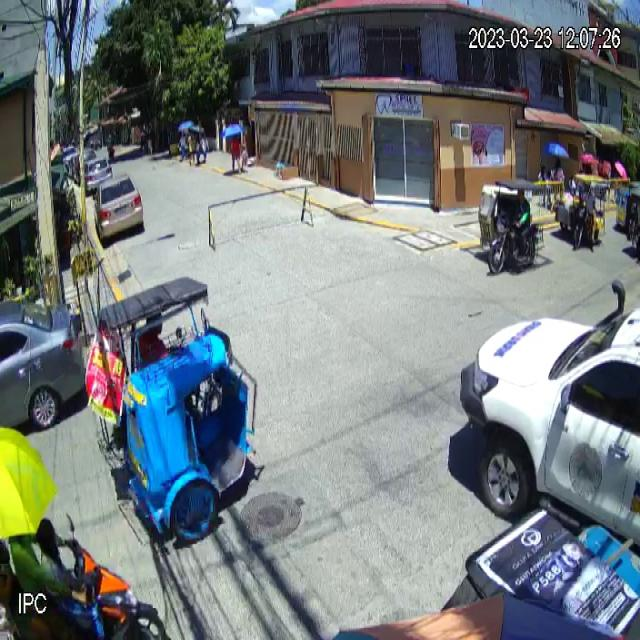Car: (92, 172, 144, 245)
Tricycle: (80, 276, 262, 544), (477, 177, 544, 274), (554, 172, 608, 250)
